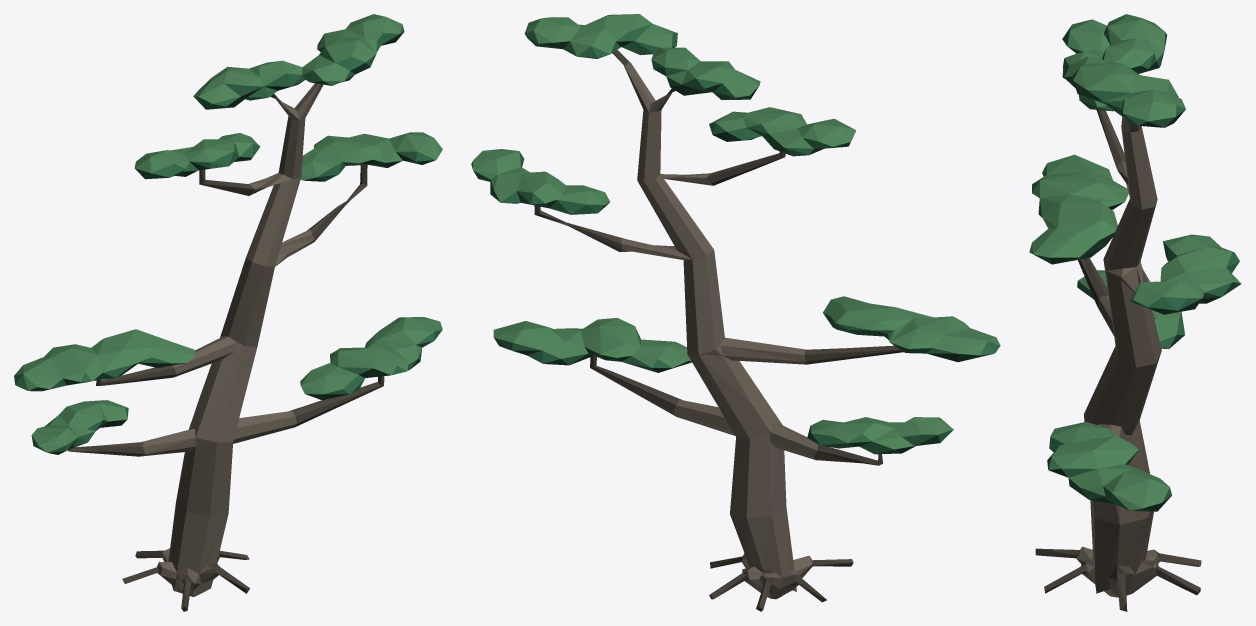
Rendered from ancient-pine-1419-lod2.glb.
3 views of the same model, side by side, from view 1: azimuth 30°, elevation 25°; view 2: azimuth 150°, elevation 25°; view 3: azimuth 270°, elevation 25° (orthographic). The views are drawn at different scales.
Parts seen in each view (by area): view 1: n12.006, n8.006, n9.006, n11.006, n10.006; view 2: n12.006, n8.006, n9.006, n11.006, n10.006; view 3: n12.006, n8.006, n11.006, n9.006, n10.006.
Boxes of the visible parts, x1,y1,x2,y2 form: n12.006: (14,14,442,452); n8.006: (140,83,323,596); n9.006: (68,96,384,611); n11.006: (14,24,442,452); n10.006: (29,32,434,454); n12.006: (473,14,1000,449); n8.006: (620,62,817,599); n9.006: (534,50,903,611); n11.006: (471,24,1000,454); n10.006: (473,34,993,454); n12.006: (1029,14,1240,510); n8.006: (1077,117,1161,597); n11.006: (1032,23,1239,510); n9.006: (1035,110,1201,611); n10.006: (1034,35,1241,511).
Size of the model in its own units: 5.08 by 5.42 by 1.69.
